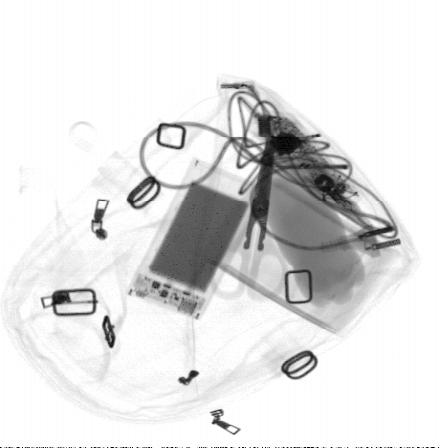Powerbank: (125, 154, 271, 322)
Scissors: (207, 130, 289, 304)
